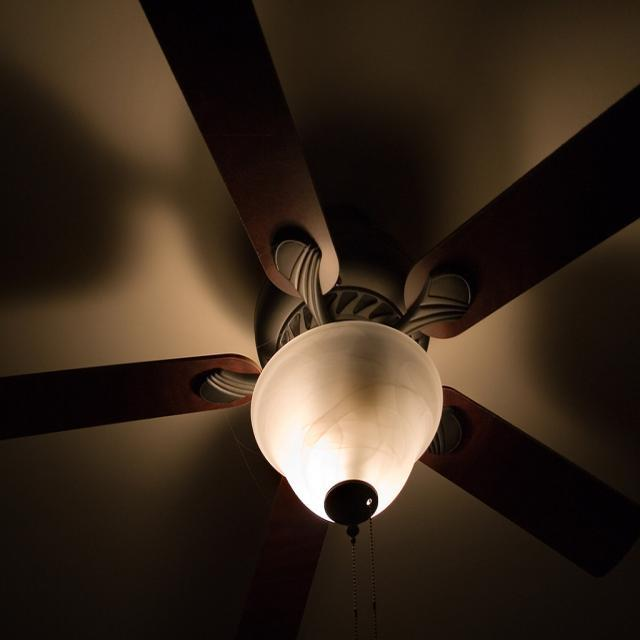bulb_on: (248, 315, 447, 528)
fan_off: (2, 0, 640, 640)
